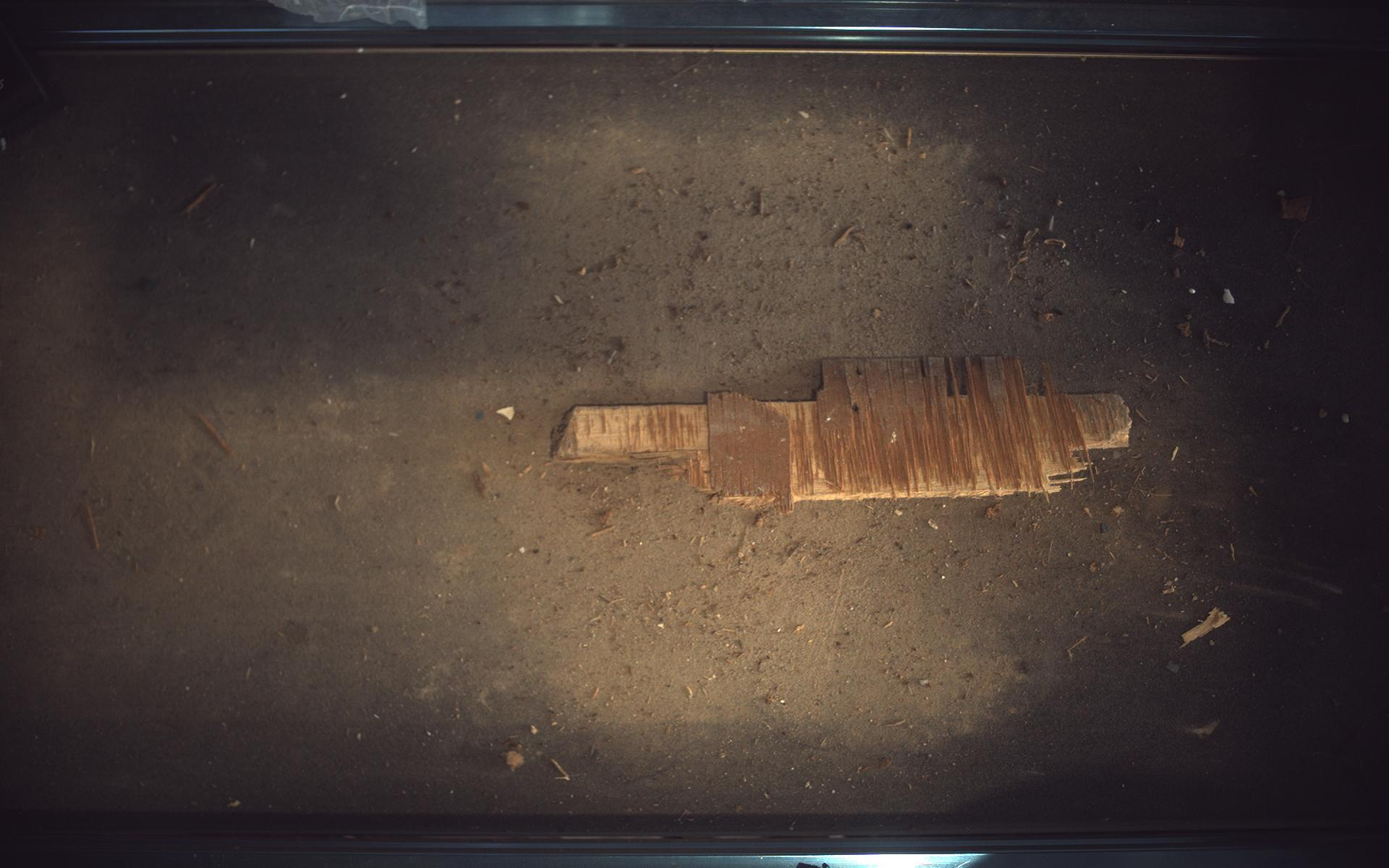wood: (558, 356, 1134, 513)
